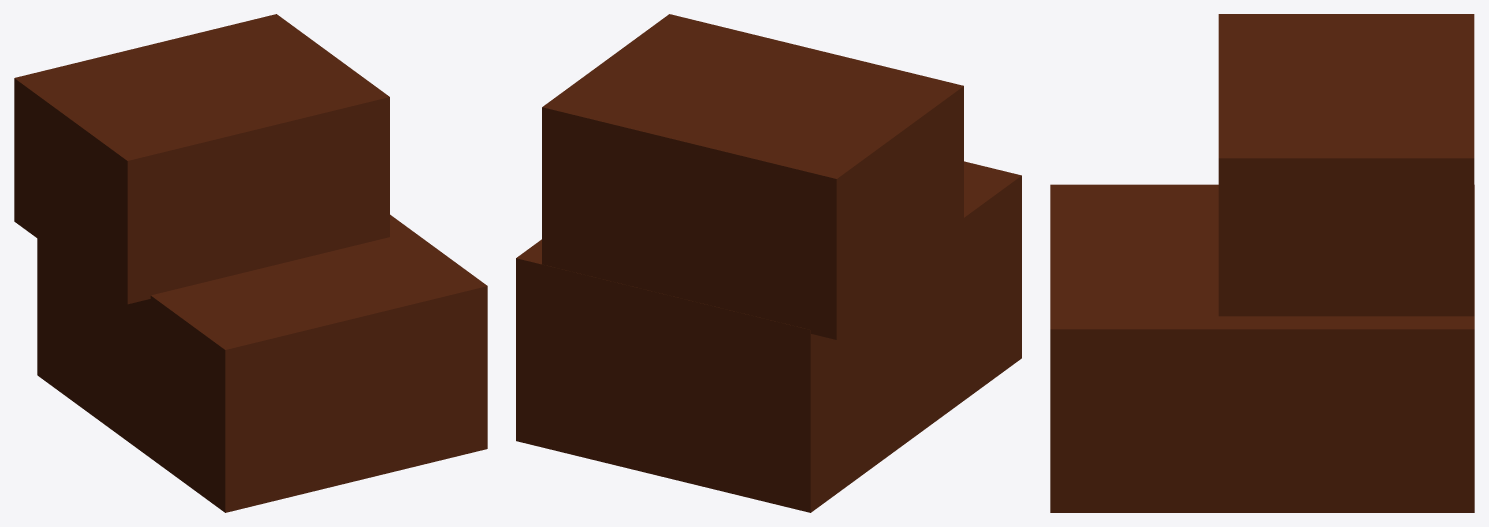
The model's file is box01_maya.FBX.
3 views of the same model, side by side, from view 1: azimuth 30°, elevation 25°; view 2: azimuth 150°, elevation 25°; view 3: azimuth 270°, elevation 25° (orthographic). The views are drawn at different scales.
Visible parts, largest first — view 1: box01_maya; view 2: box01_maya; view 3: box01_maya.
Boxes of the visible parts, x1,y1,x2,y2 form: box01_maya: (14,14,487,512); box01_maya: (516,14,1021,512); box01_maya: (1050,14,1474,512).
Size of the model in its own units: 2.24 by 2.27 by 2.56.
